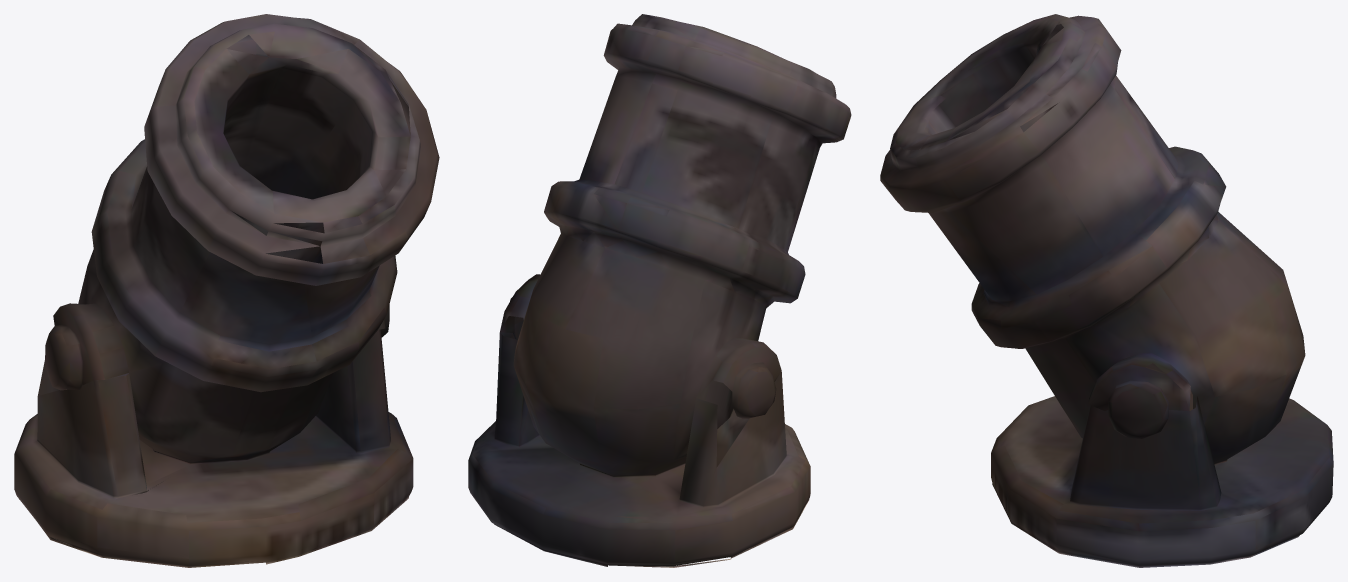
Rendered from bombarde-jeu-VWOVW2FM.glb.
3 views of the same model, side by side, from view 1: azimuth 30°, elevation 25°; view 2: azimuth 150°, elevation 25°; view 3: azimuth 270°, elevation 25° (orthographic). The views are drawn at different scales.
Parts seen in each view (by area): view 1: bombarde; view 2: bombarde; view 3: bombarde.
Boxes of the visible parts, x1,y1,x2,y2 form: bombarde: [14, 14, 439, 567]; bombarde: [468, 14, 851, 567]; bombarde: [880, 14, 1333, 567].
Bounding box in the file's own units: 1.3 × 1.84 × 1.62.
Materials: 1 (1 with a texture image).
